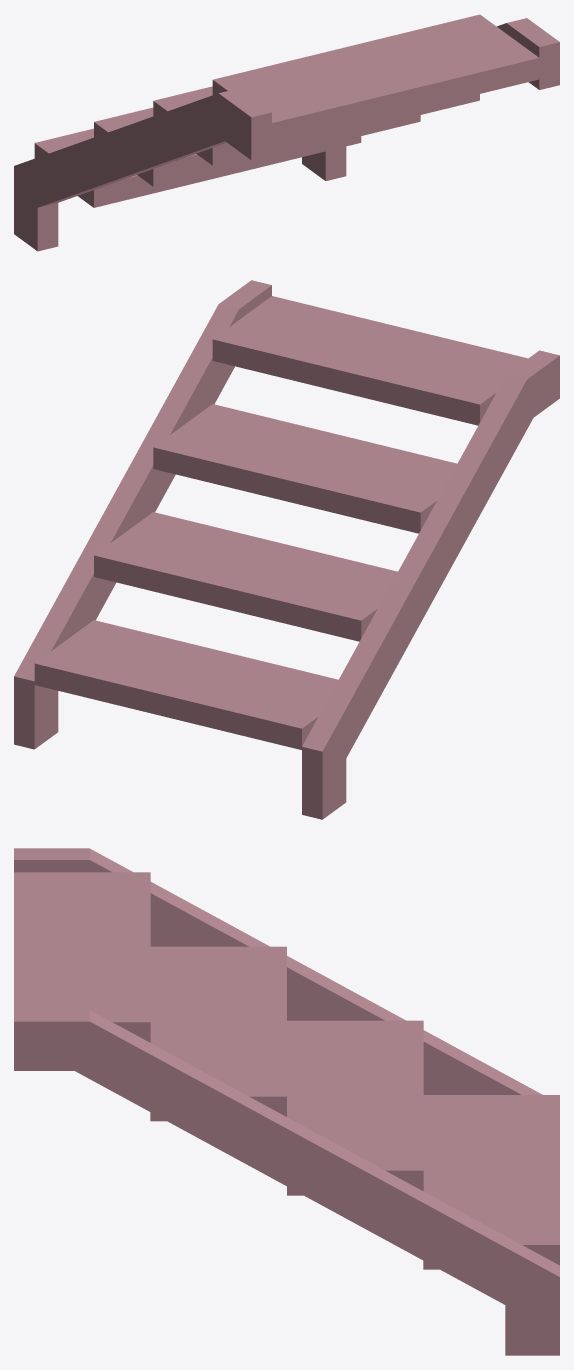
Rendered from stairs-sides-short.obj.
The picture shows the model from 3 angles, top to bottom: view 1: azimuth 30°, elevation 25°; view 2: azimuth 150°, elevation 25°; view 3: azimuth 270°, elevation 25°; orthographic projection. The views are drawn at different scales.
Size of the model in its own units: 1.5 by 1.35 by 2.
